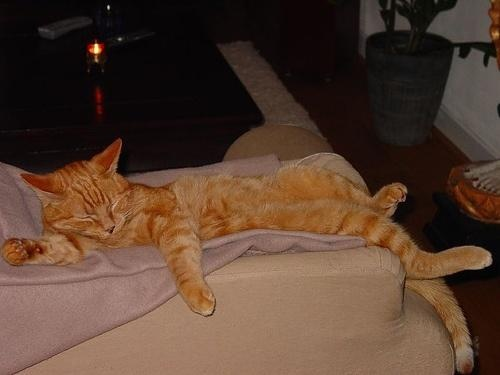cat: (4, 137, 493, 375)
pottedplant: (365, 1, 458, 149)
